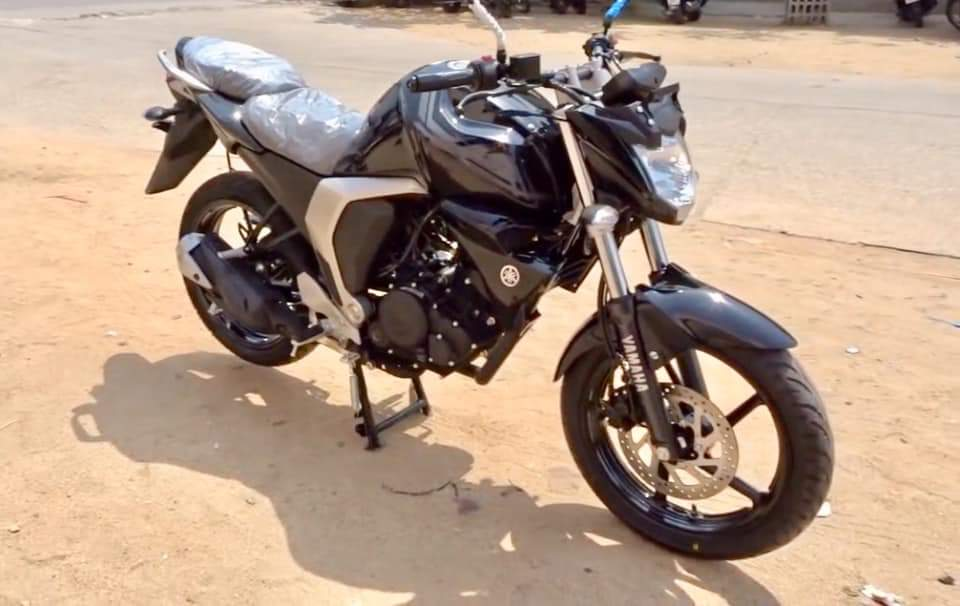bike: (146, 1, 834, 560)
